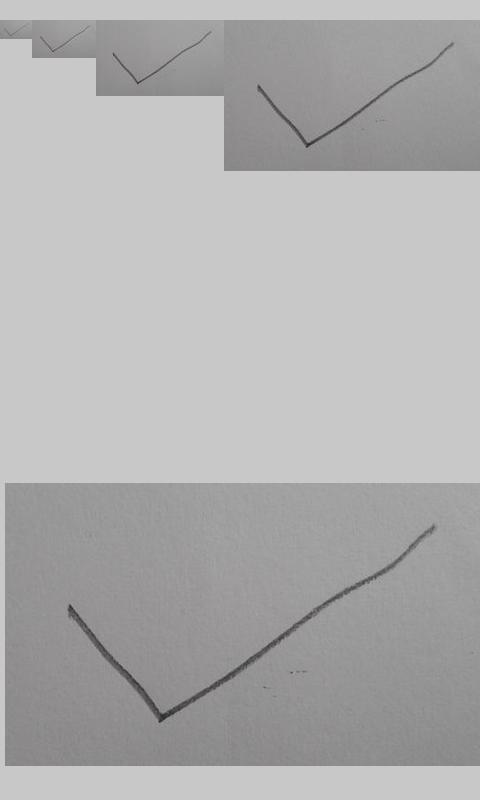check_box: (69, 525, 436, 723), (256, 41, 455, 149), (112, 31, 212, 85), (40, 25, 90, 52), (4, 23, 28, 37)
